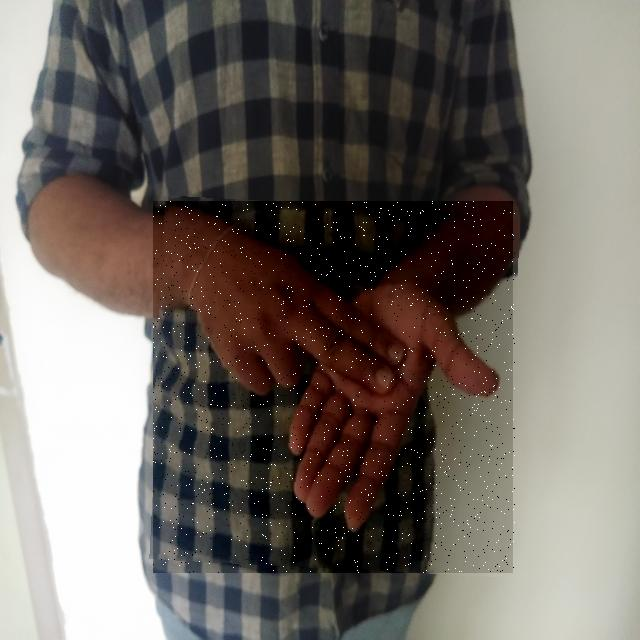M: (154, 201, 516, 573)
